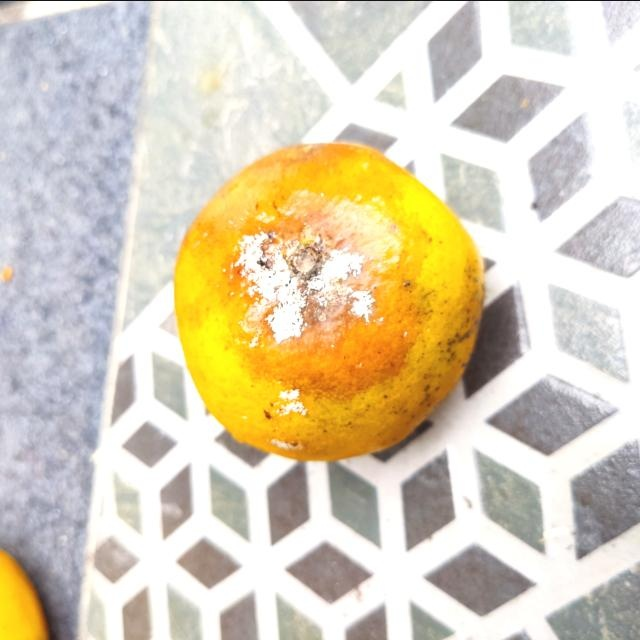agrume: (170, 142, 486, 465)
